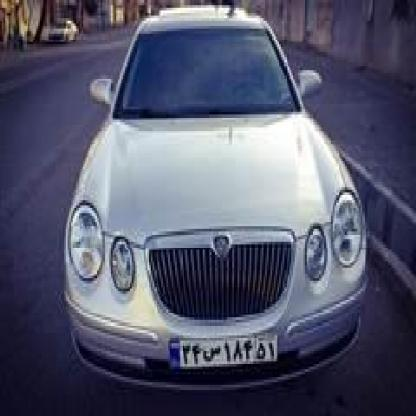Car: (63, 0, 368, 382), (47, 5, 78, 55)
